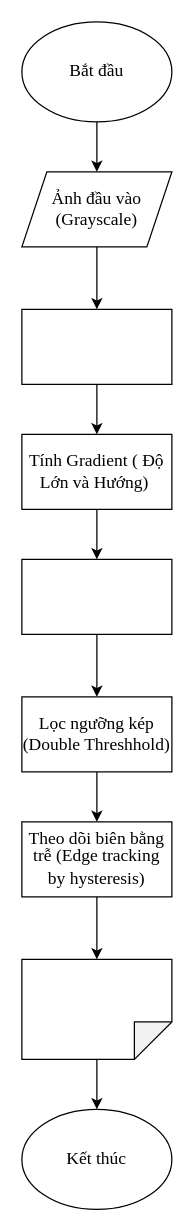
The diagram is 194 pixels wide and 1231 high, and some of its shapes have lost their labels. Each missing label, with the box of its shape:
Làm mịn ảnh: (21, 308, 172, 384)
Triệt tiêu phi cực đại ( Non-maximum suppression): (21, 558, 172, 634)
Ảnh đầu ra: (21, 958, 172, 1059)
